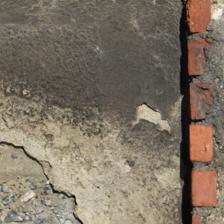Crack: (0, 53, 97, 121), (39, 20, 120, 58)
